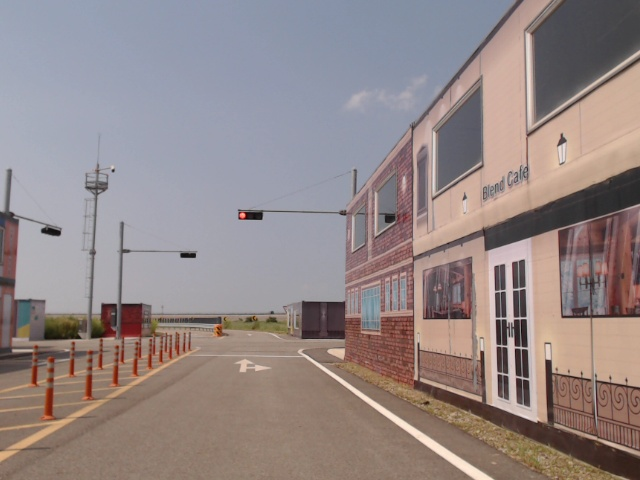red_3: (238, 211, 265, 220)
